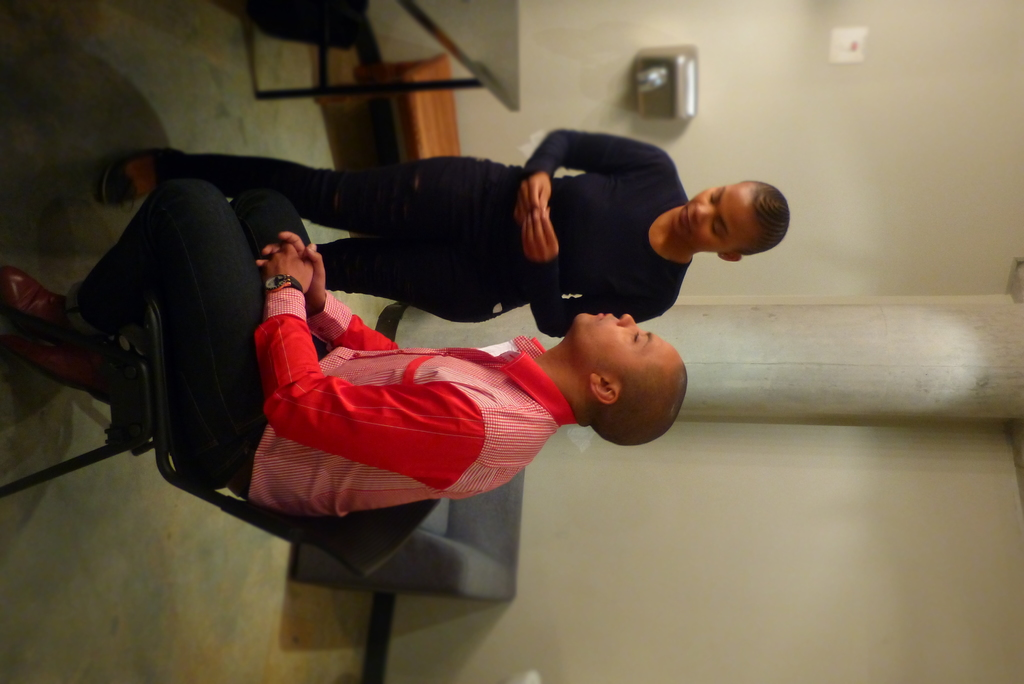Person: (98, 128, 791, 336)
